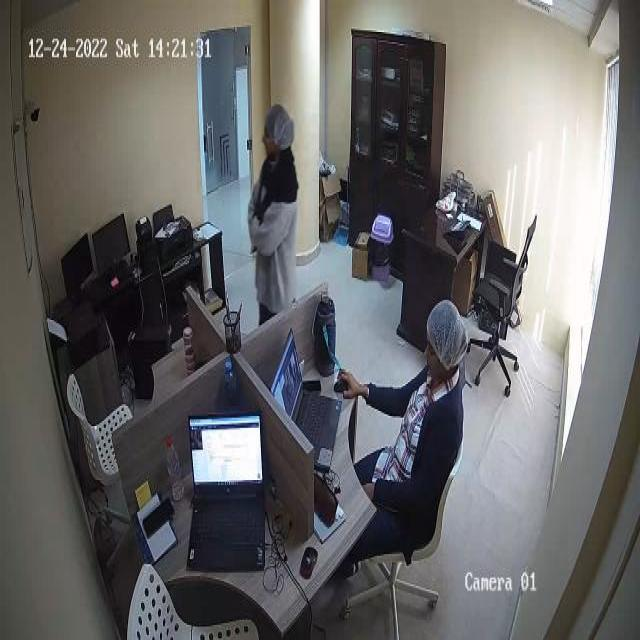hairnet: (429, 301, 468, 366), (267, 108, 295, 150)
